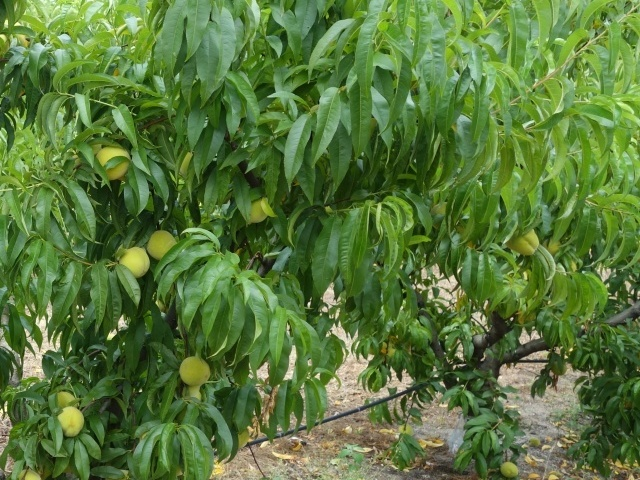peach: (112, 240, 155, 280), (501, 220, 541, 260), (91, 141, 132, 179), (142, 227, 178, 265), (52, 402, 87, 441), (177, 352, 213, 386), (243, 196, 272, 227), (50, 390, 78, 418)
